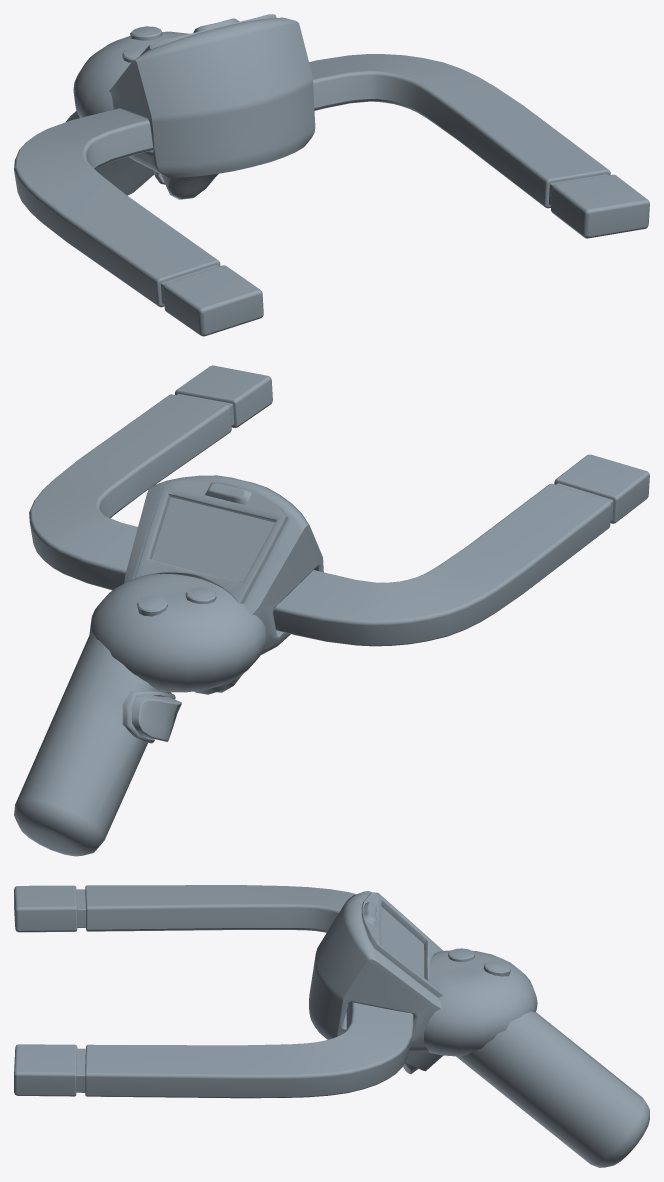
The model's file is magnet_controller.fbx.
3 views of the same model, one above another, from view 1: azimuth 30°, elevation 25°; view 2: azimuth 150°, elevation 25°; view 3: azimuth 270°, elevation 25° (orthographic). The views are drawn at different scales.
Parts seen in each view (by area): view 1: magnet, screen_panel, main_sphere, new_handle, trigger, buttons; view 2: magnet, screen_panel, new_handle, main_sphere, grip_button, buttons; view 3: magnet, new_handle, screen_panel, main_sphere, buttons, trigger_case.
Boxes of the visible parts, x1,y1,x2,y2 form: magnet: (14,54,649,336); screen_panel: (109,14,315,177); main_sphere: (73,31,189,117); new_handle: (66,111,154,195); trigger: (161,173,218,199); buttons: (122,26,162,62); magnet: (29,365,649,646); screen_panel: (124,475,323,654); new_handle: (14,633,175,856); main_sphere: (89,573,266,692); grip_button: (131,695,181,741); buttons: (137,587,216,616); magnet: (14,885,413,1098); new_handle: (456,1011,649,1167); screen_panel: (309,891,443,1052); main_sphere: (423,950,537,1056); buttons: (448,948,510,976); trigger_case: (405,1052,442,1071).
Size of the model in its own units: 16.48 by 9.7 by 23.07.
